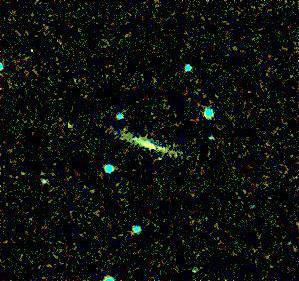star: (13, 37, 43, 67)
